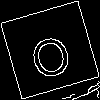O: (25, 25, 75, 82)
